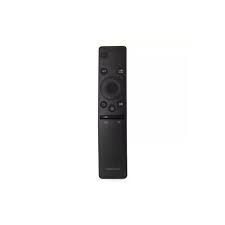remote control: (95, 47, 133, 178)
